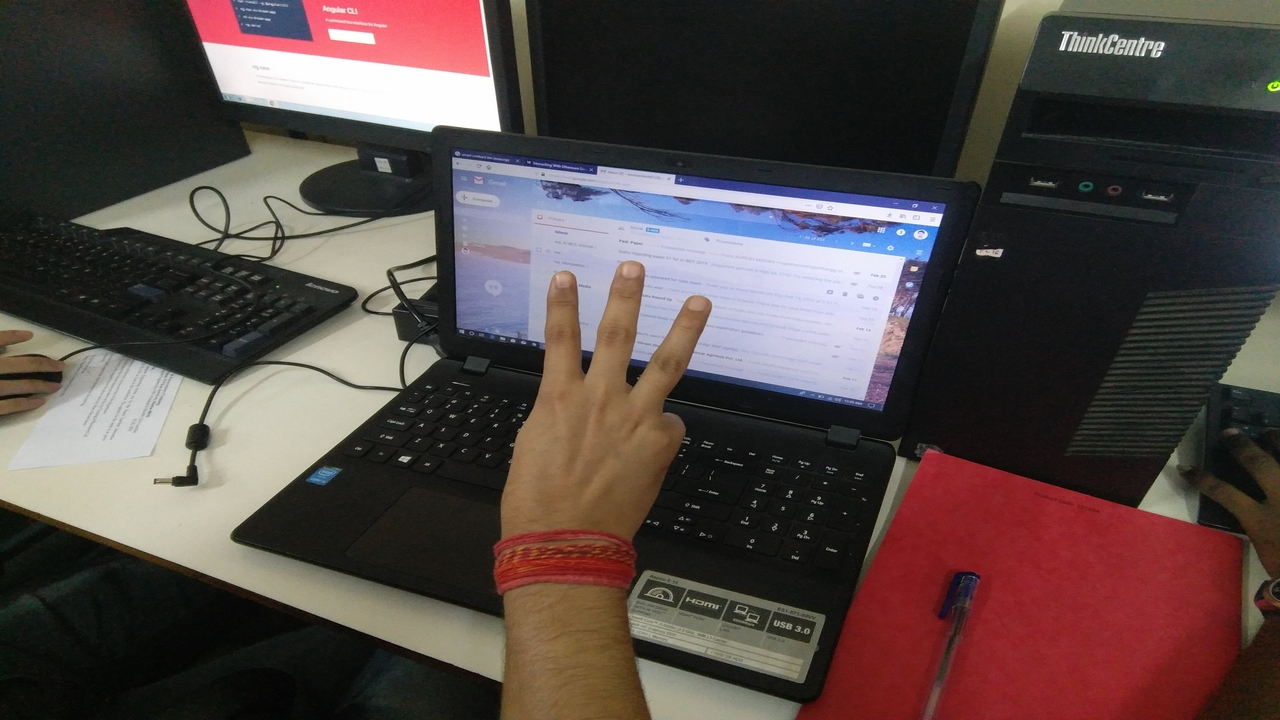fingertip: (666, 288, 720, 330), (604, 250, 654, 288), (542, 262, 584, 296)
